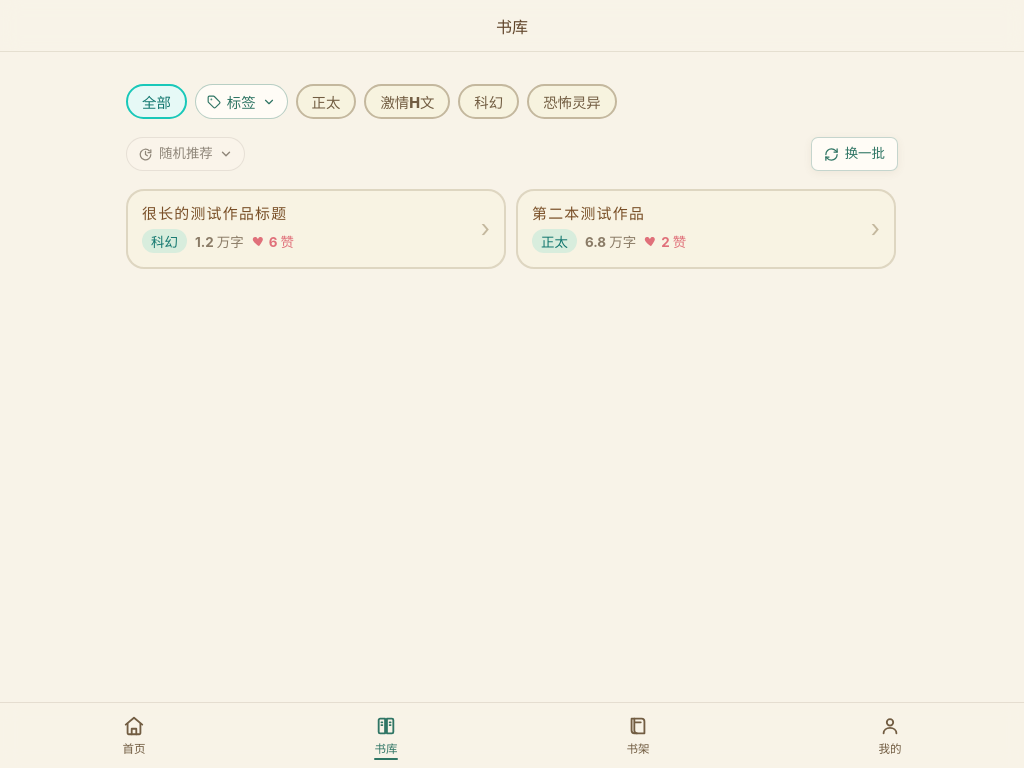
BooksPage categories › loads a random batch by default and replaces it when requested
The image size is (1024, 768).
Check: the heading "很长的测试作品标题" is shown, box [142,205,287,224]
Check: the element with class "books-status" is shown, box [126,137,898,171]
Click the button "换一批": coordinates (854, 154) [811,137,898,171]
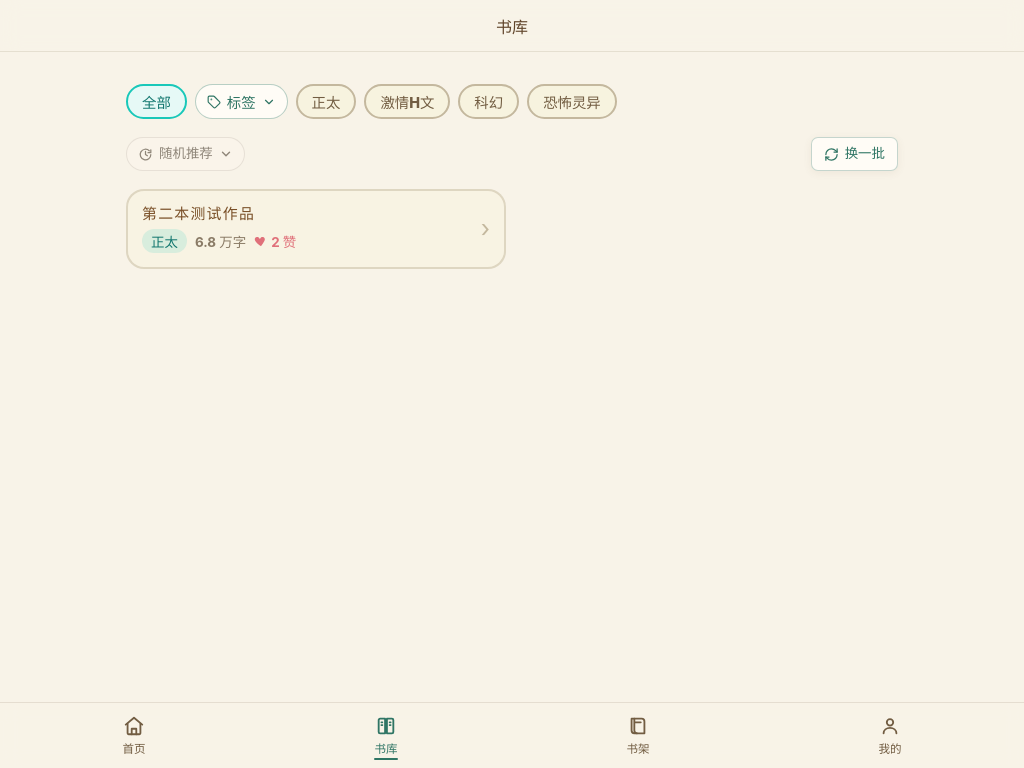
Check: the heading "第二本测试作品" is shown, box [142,205,255,224]
Check: the link "很长的测试作品标题" is gone
